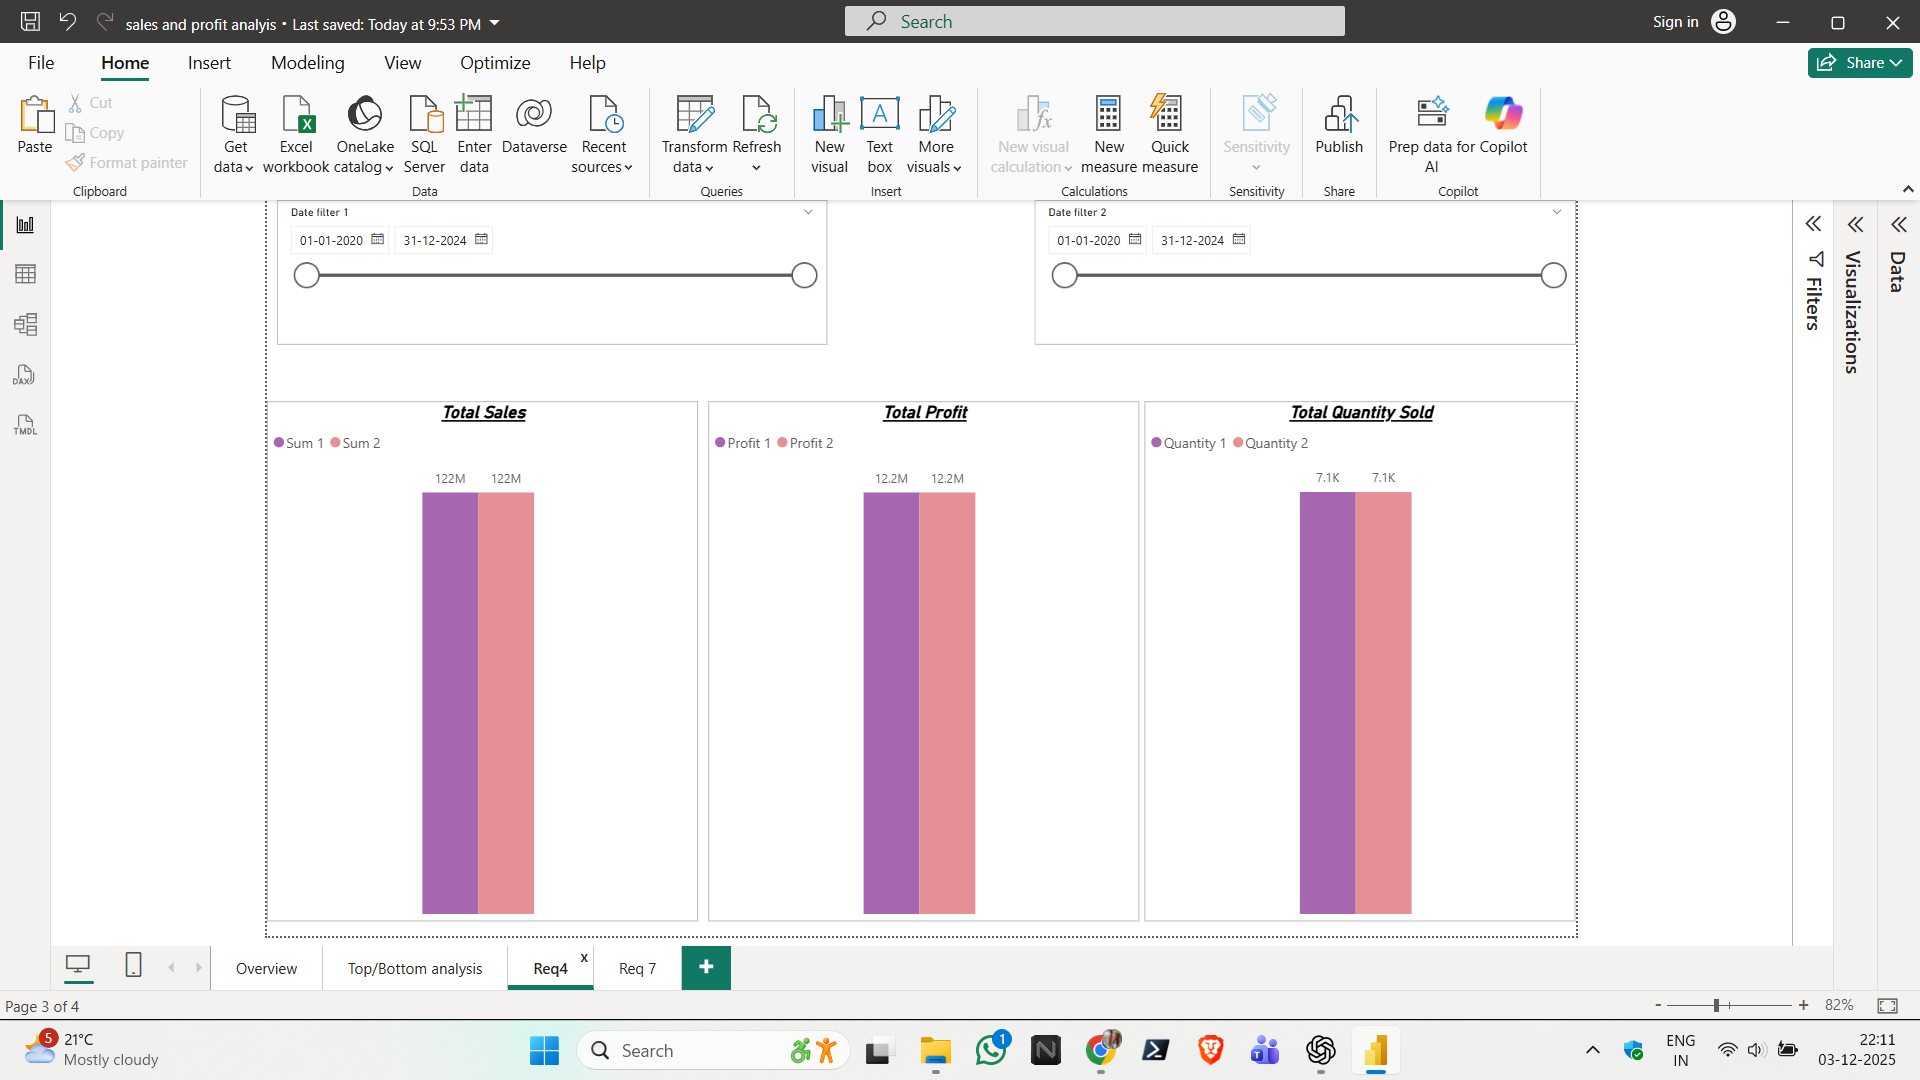

What the dashboard file says about the page in this screenshot:
{"tool":"powerbi","page":{"name":"Req4","canvas":[1280,720],"ordinal":2},"visuals":[{"type":"slicer","fields":{"Values":["Date Table 1.Date"]},"box":[9.8,0,538,141.8],"z":0},{"type":"slicer","fields":{"Values":["Date Table 2.Date"]},"box":[750.8,0,529.5,141.8],"z":1000},{"type":"clusteredColumnChart","title":"Total Sales","fields":{"Y":["Sum(facttable.Net Sales)","Date Table 1.Sum of Net Sales"]},"box":[0,196.9,421.9,508.7],"z":2000},{"type":"clusteredColumnChart","title":"Total Profit","fields":{"Y":["Sum(facttable.Profit)","Measure table.Total Profit"]},"box":[431.7,196.9,421.9,508.7],"z":3000},{"type":"clusteredColumnChart","title":"Total Quantity Sold","fields":{"Y":["Sum(facttable.Units Sold)","Measure table.Quantity Sold"]},"box":[858.4,196.9,421.9,508.7],"z":4000}]}

Visuals, with their boxes on the page's 1280x720 design canvas (x1, y1, x2, y2). These are canvas units, not pixel positions in the 1920x1080 screenshot, which may show the page scaled, cropped or inside an application window:
slicer - Date Table 1.Date: box(10, 0, 548, 142)
slicer - Date Table 2.Date: box(751, 0, 1280, 142)
"Total Sales" clusteredColumnChart: box(0, 197, 422, 706)
"Total Profit" clusteredColumnChart: box(432, 197, 854, 706)
"Total Quantity Sold" clusteredColumnChart: box(858, 197, 1280, 706)
